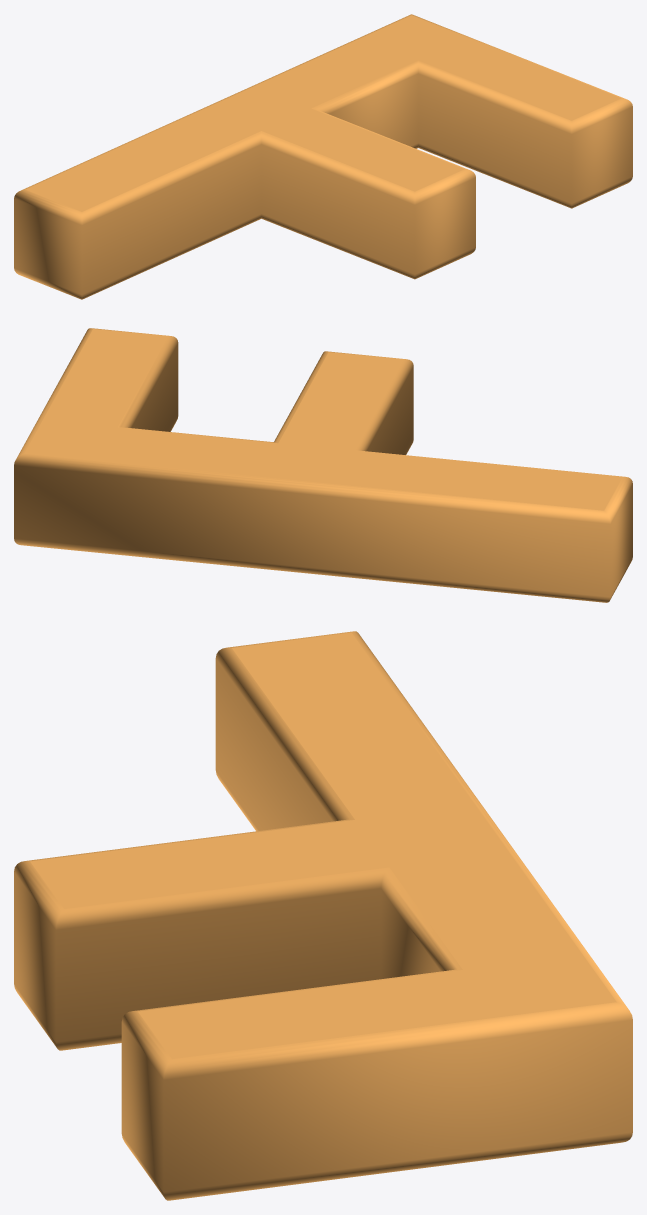
File: ToyObject_155.fbx
3 renders of one model, top to bottom at view 1: azimuth 30°, elevation 25°; view 2: azimuth 150°, elevation 25°; view 3: azimuth 270°, elevation 25°, orthographic. The views are drawn at different scales.
Visible parts, largest first — view 1: Object.037; view 2: Object.037; view 3: Object.037.
Boxes of the visible parts, <box> form: Object.037: <box>14,14,632,299</box>; Object.037: <box>14,328,632,602</box>; Object.037: <box>14,631,632,1200</box>.
Size of the model in its own units: 0.2288 by 0.0339 by 0.1359.
